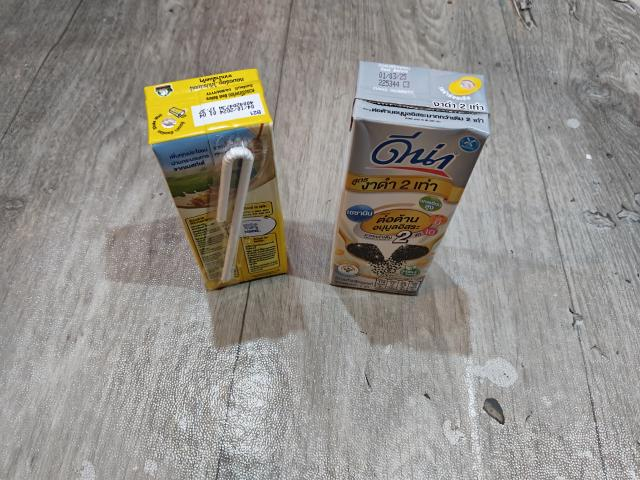drink_box: (322, 56, 502, 302), (137, 57, 298, 298)
